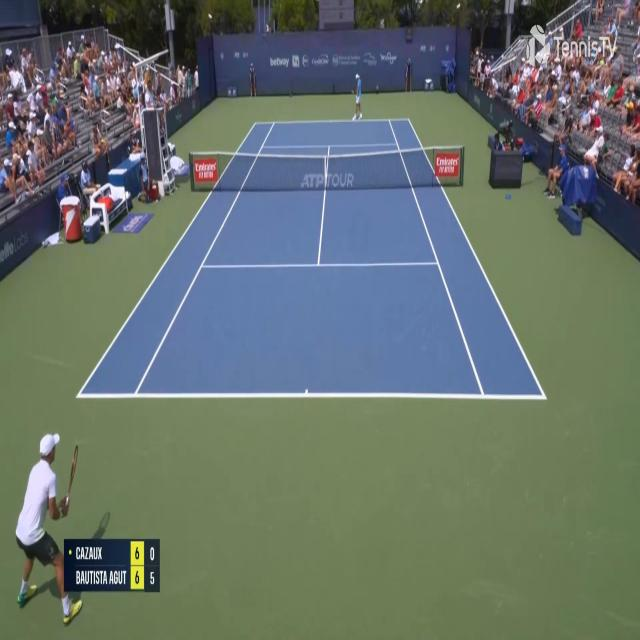tennis-player: (11, 429, 85, 636), (351, 72, 364, 124)
